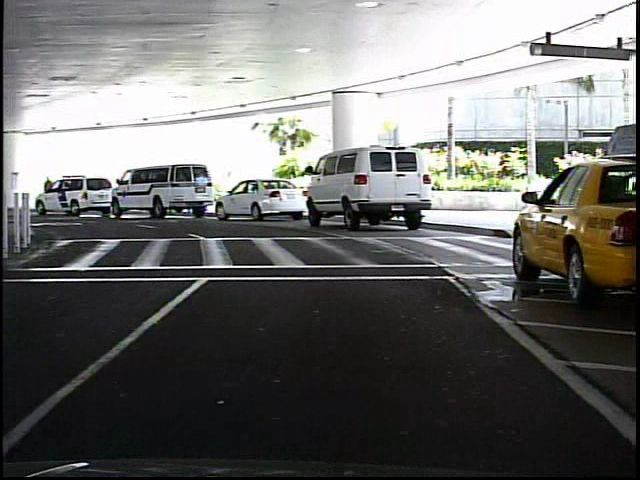person: (41, 173, 57, 210)
